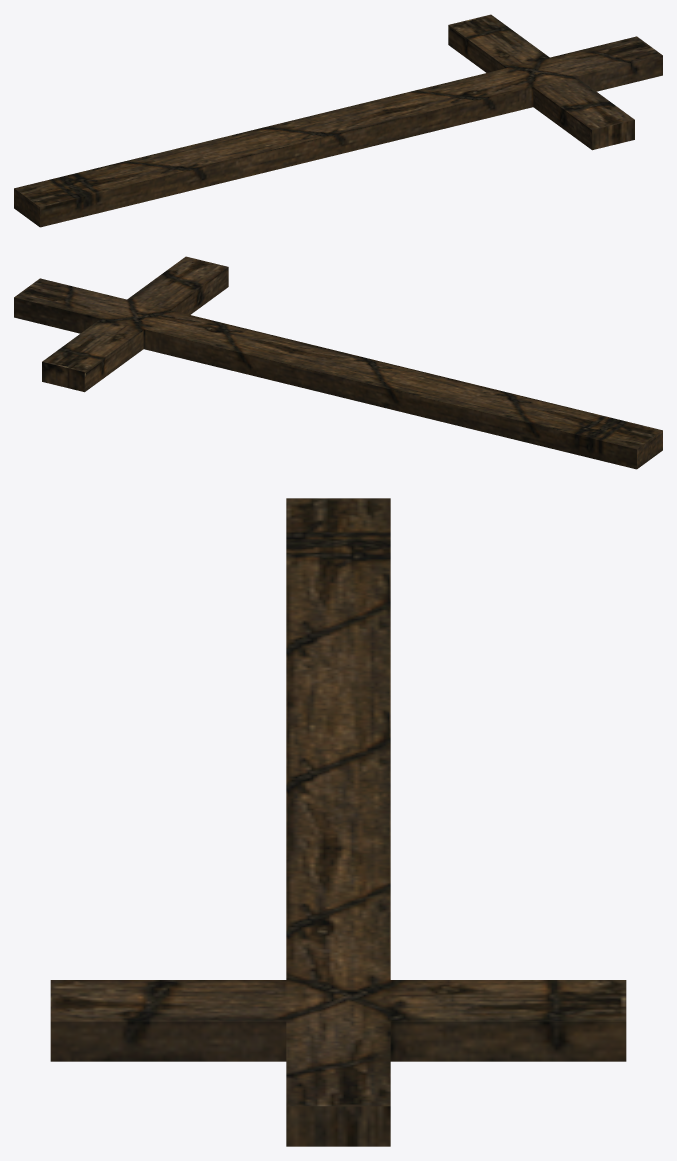
File: melee_cross_mx_1.obj
The picture shows the model from 3 angles, top to bottom: view 1: azimuth 30°, elevation 25°; view 2: azimuth 150°, elevation 25°; view 3: azimuth 270°, elevation 25°; orthographic projection. The views are drawn at different scales.
Visible parts, largest first — view 1: melee_cross_mx_1; view 2: melee_cross_mx_1; view 3: melee_cross_mx_1.
Boxes of the visible parts, left/top/right/bottom form: melee_cross_mx_1: left=14, top=14, right=662, bottom=227; melee_cross_mx_1: left=14, top=256, right=662, bottom=469; melee_cross_mx_1: left=50, top=498, right=626, bottom=1146.
Bounding box in the file's own units: 0.91 × 0.028 × 0.364.
